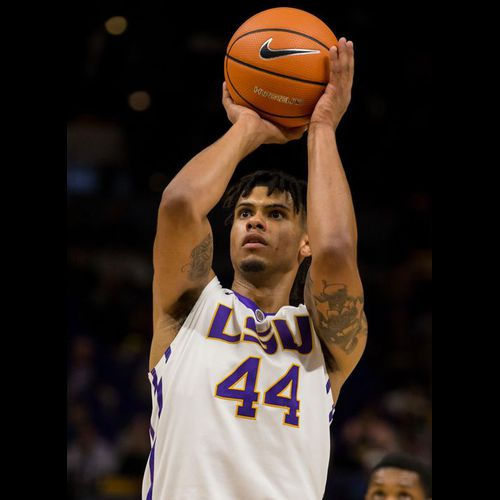ball: (225, 9, 341, 129)
